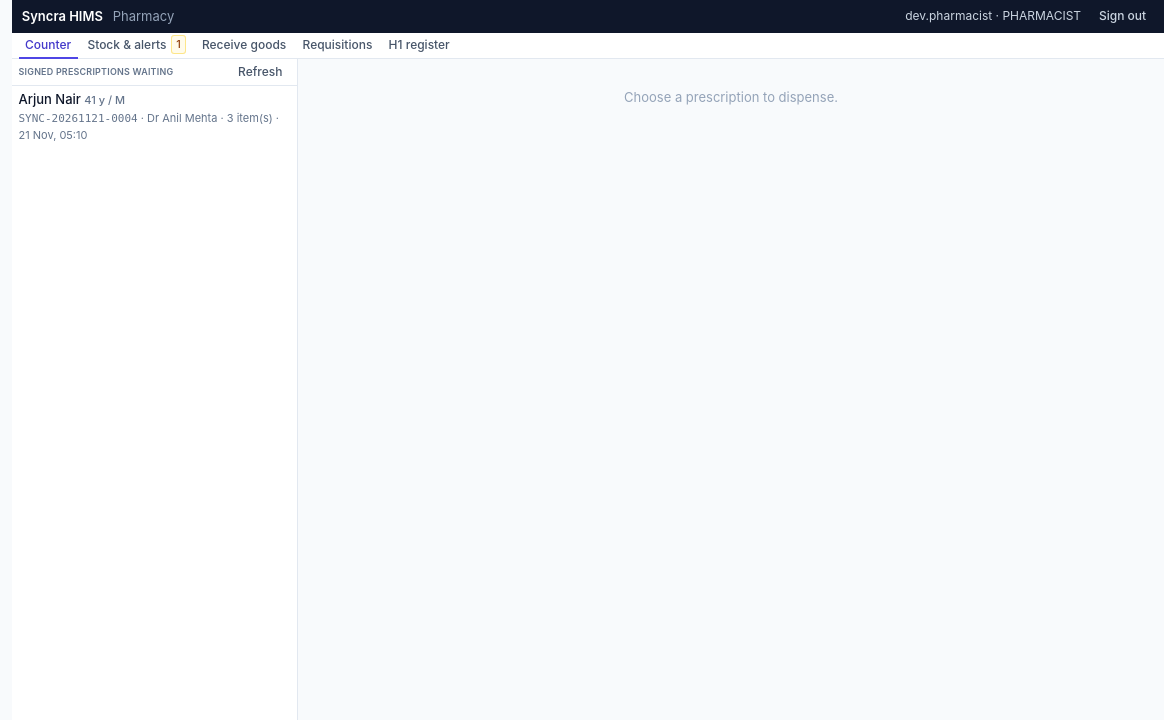
Pharmacy desk › dispenses a signed prescription within counter stock, then invoices and receives payment
Click the text "Arjun Nair" at (72, 99), box 18,91 -> 125,107
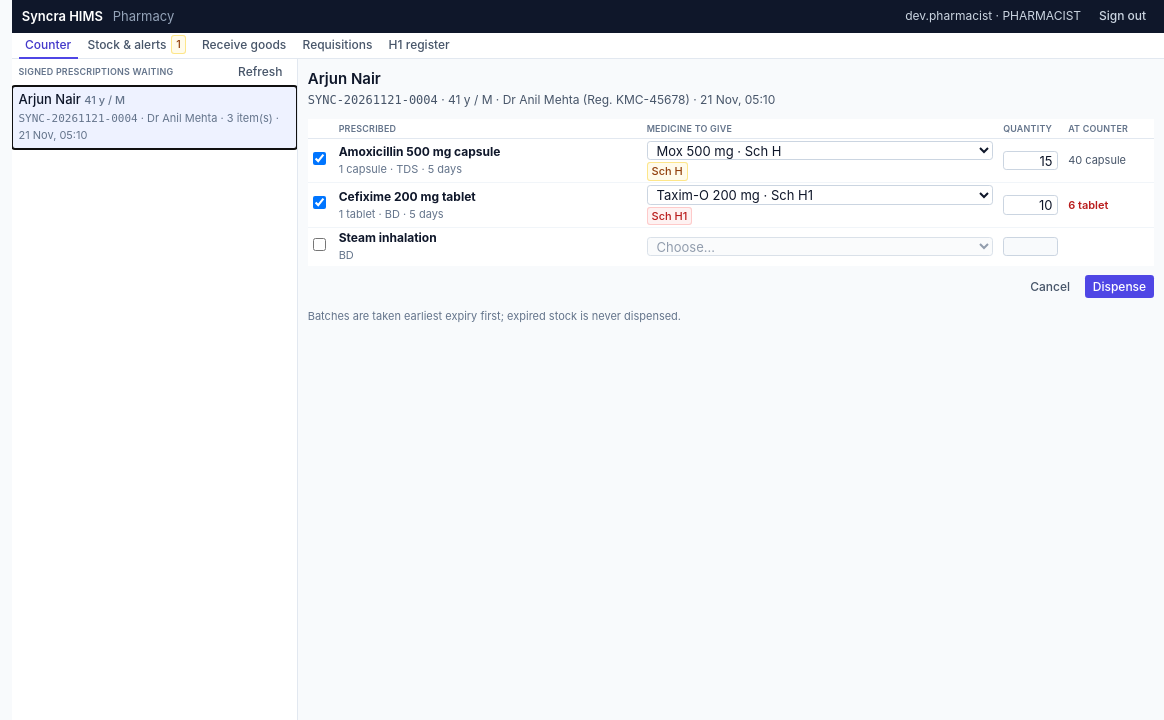
Expected: the dropdown named "Medicine for Amoxicillin 500 mg capsule" shows "Mox 500 mg · Sch H", 647,141 -> 993,160
Expected: the checkbox named "Dispense Steam inhalation" is not checked, 313,238 -> 326,251
Expected: the text "Sch H1" is shown, 647,207 -> 692,225
# Ten Taxim-O asked, six at the counter: the desk says so before the server does.
Click the button "Dispense" at (1120, 287), box 1085,275 -> 1154,298
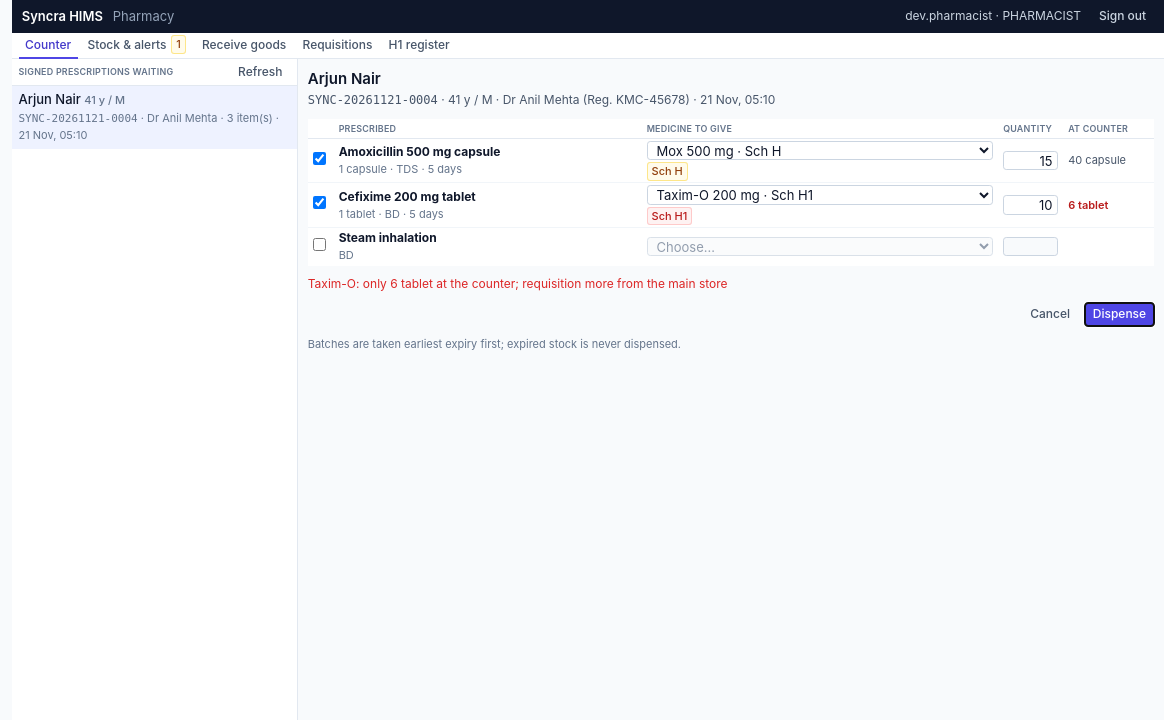
Expected: the message shows "Taxim-O: only 6 tablet at the counter", 308,276 -> 728,291
Replace the text in the field named "Quantity of Cefixime 200 mg tablet" with "6" at (1031, 205), box 1003,195 -> 1058,215
Click the button "Dispense" at (1120, 314), box 1085,303 -> 1154,326
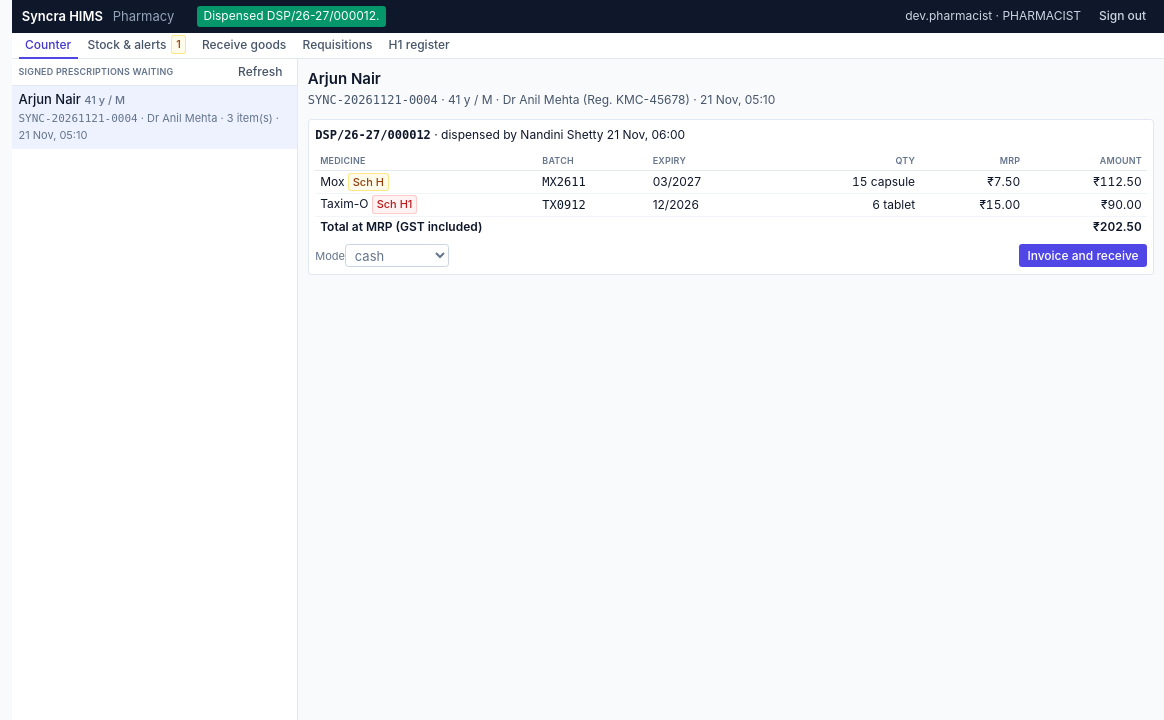
Expected: the text "DSP/26-27/000012" is shown, 315,128 -> 431,142
Expected: the text "TX0912" is shown, 537,193 -> 648,216
Expected: the text "12/2026" is shown, 648,193 -> 768,216
Select "upi" in the dropdown labelled "Mode" at (397, 256), box 345,244 -> 449,267
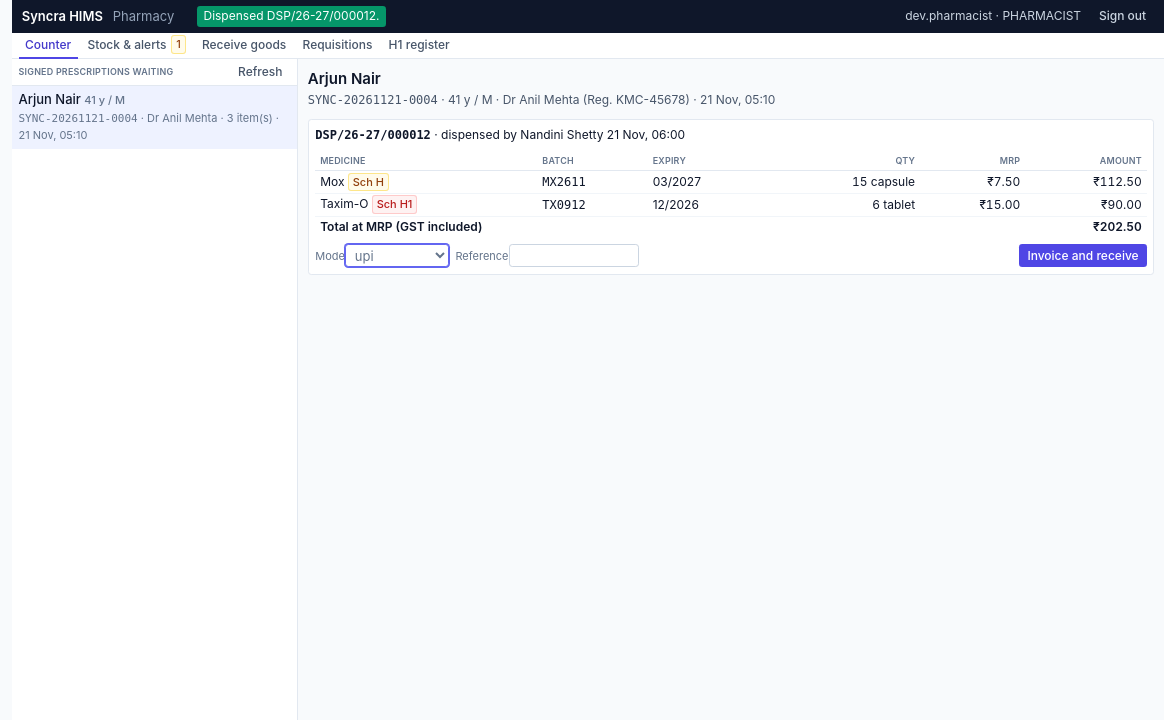
Type "611234567890" into the field labelled "Reference" at (574, 256), box 508,244 -> 638,267
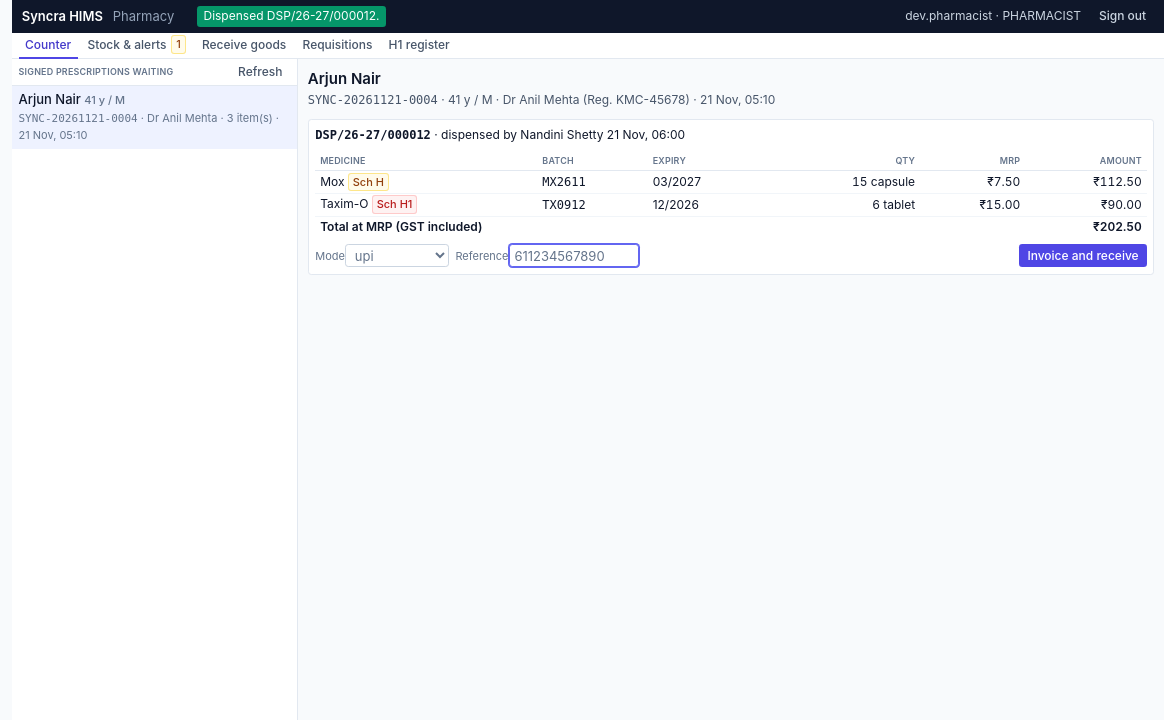
Click the button "Invoice and receive" at (1083, 256), box 1019,244 -> 1147,267
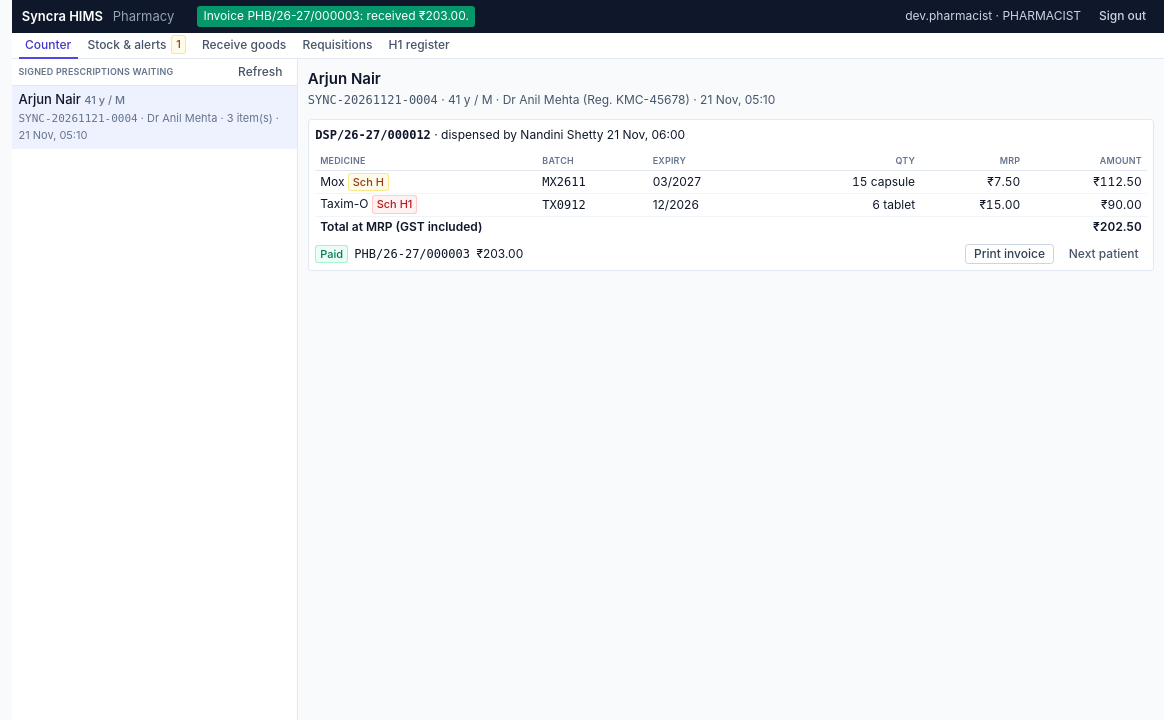
Expected: the text "Paid" is shown, 315,245 -> 348,263
Expected: the text "PHB/26-27/000003" is shown, 354,245 -> 470,263
Expected: the message reads "Invoice PHB/26-27/000003: received ₹203.00.", 204,8 -> 469,23
